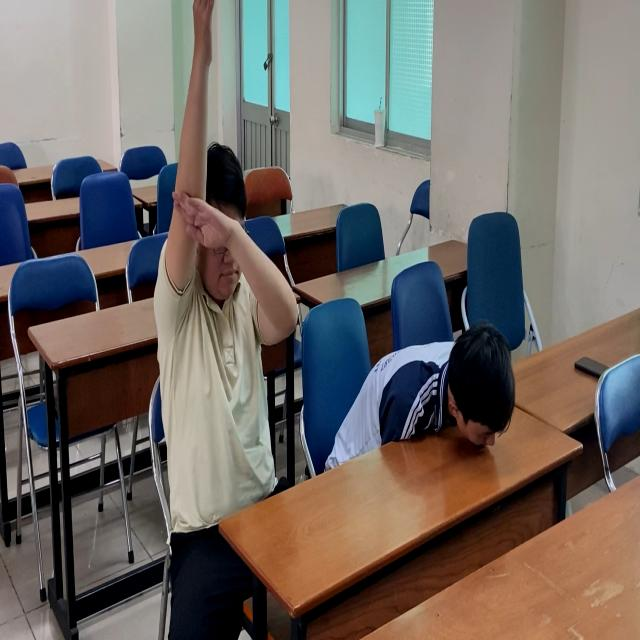raise_hand: (145, 1, 284, 540)
sleep: (322, 314, 523, 485)
